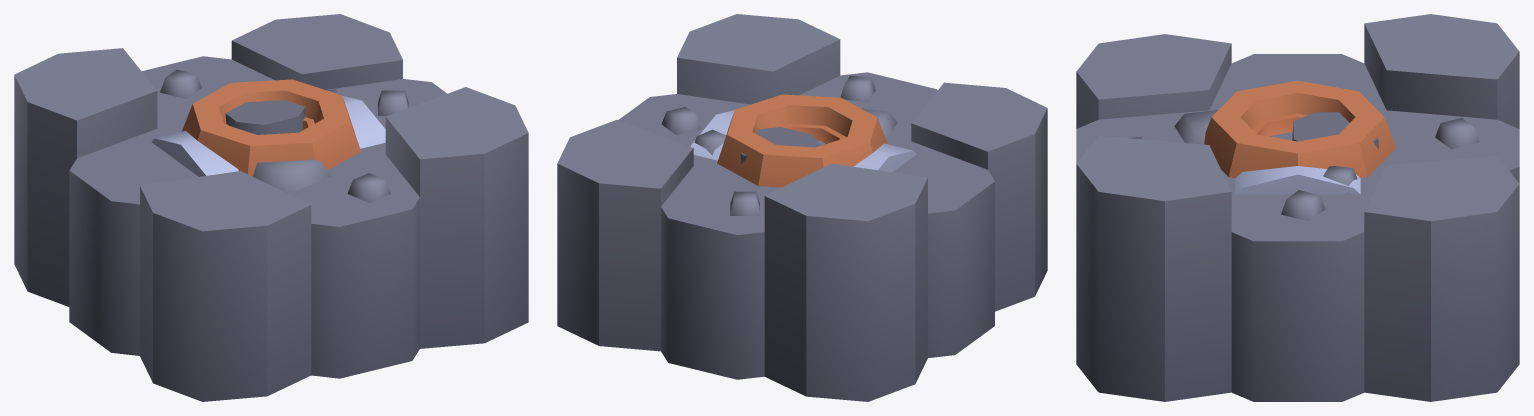
File: dun.glb
3 views of the same model, side by side, from view 1: azimuth 30°, elevation 25°; view 2: azimuth 150°, elevation 25°; view 3: azimuth 270°, elevation 25° (orthographic). The views are drawn at different scales.
Visible parts, largest first — view 1: rocks, barrel, lid, stones; view 2: rocks, barrel, lid, stones, pot; view 3: rocks, barrel, lid, stones, pot.
Part boxes in pixels (x1,y1,x2,y2): rocks: [14, 14, 528, 401]; barrel: [182, 79, 360, 176]; lid: [151, 96, 385, 176]; stones: [225, 100, 305, 134]; rocks: [557, 14, 1047, 401]; barrel: [717, 94, 887, 187]; lid: [690, 110, 916, 172]; stones: [740, 127, 819, 163]; pot: [781, 123, 846, 143]; rocks: [1076, 14, 1519, 401]; barrel: [1204, 80, 1396, 178]; lid: [1235, 166, 1360, 194]; stones: [1292, 112, 1378, 149]; pot: [1252, 113, 1306, 136].
Bounding box in the file's own units: 1 × 0.5 × 1.
Materials: 1 (1 with a texture image).
